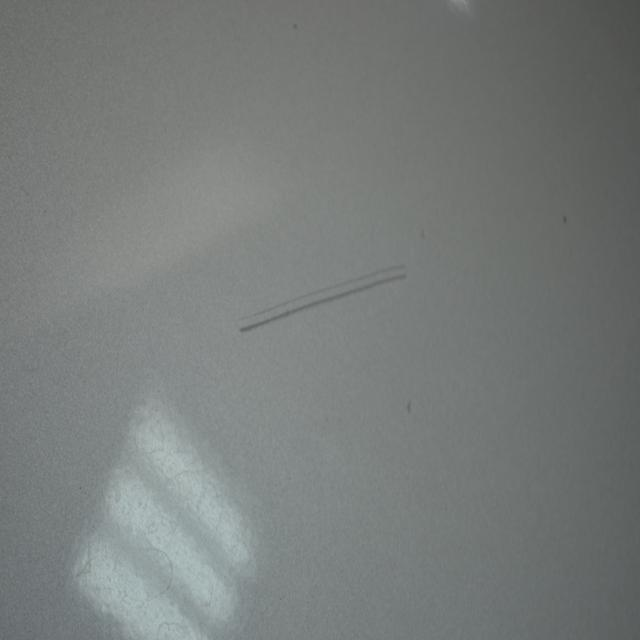dirt: (405, 390, 416, 418), (560, 206, 569, 226), (290, 13, 299, 31), (419, 227, 428, 244)
scratch: (235, 258, 409, 345)
